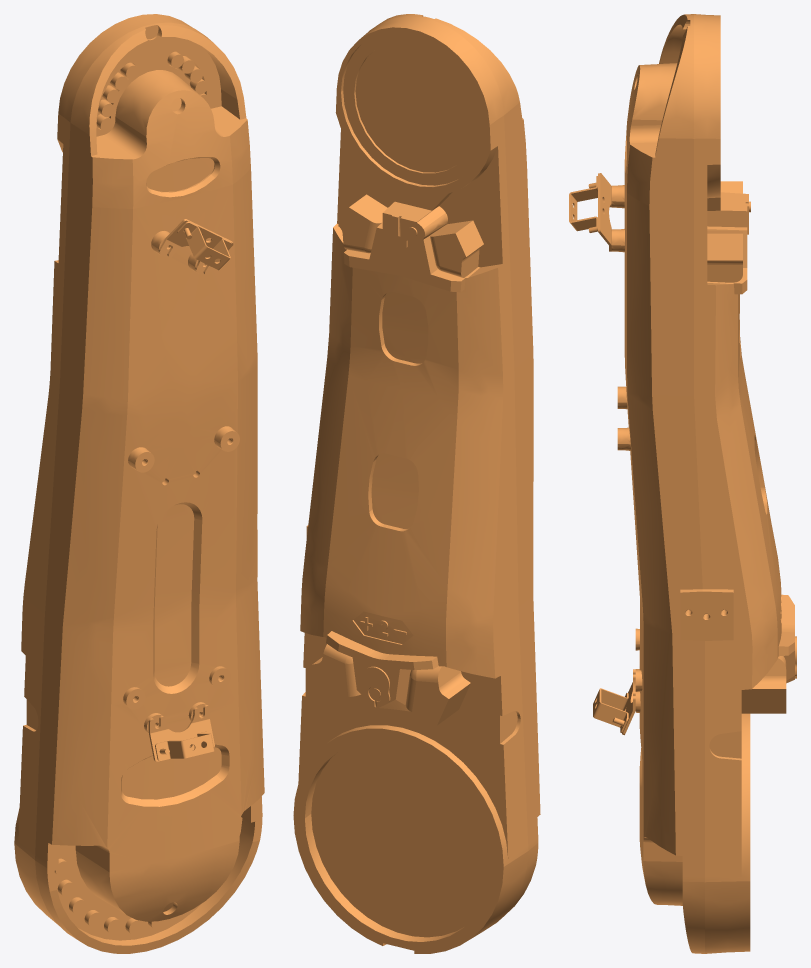
3 views of the same model, side by side, from view 1: azimuth 30°, elevation 25°; view 2: azimuth 150°, elevation 25°; view 3: azimuth 270°, elevation 25° (orthographic).
Visible parts, largest first — view 1: mesh_0; view 2: mesh_0; view 3: mesh_0.
Part boxes in pixels (<box>): mesh_0: <box>14,14,264,953</box>; mesh_0: <box>293,14,540,953</box>; mesh_0: <box>569,14,796,953</box>.
Bounding box in the file's own units: 0.28 × 1.14 × 0.2562.
